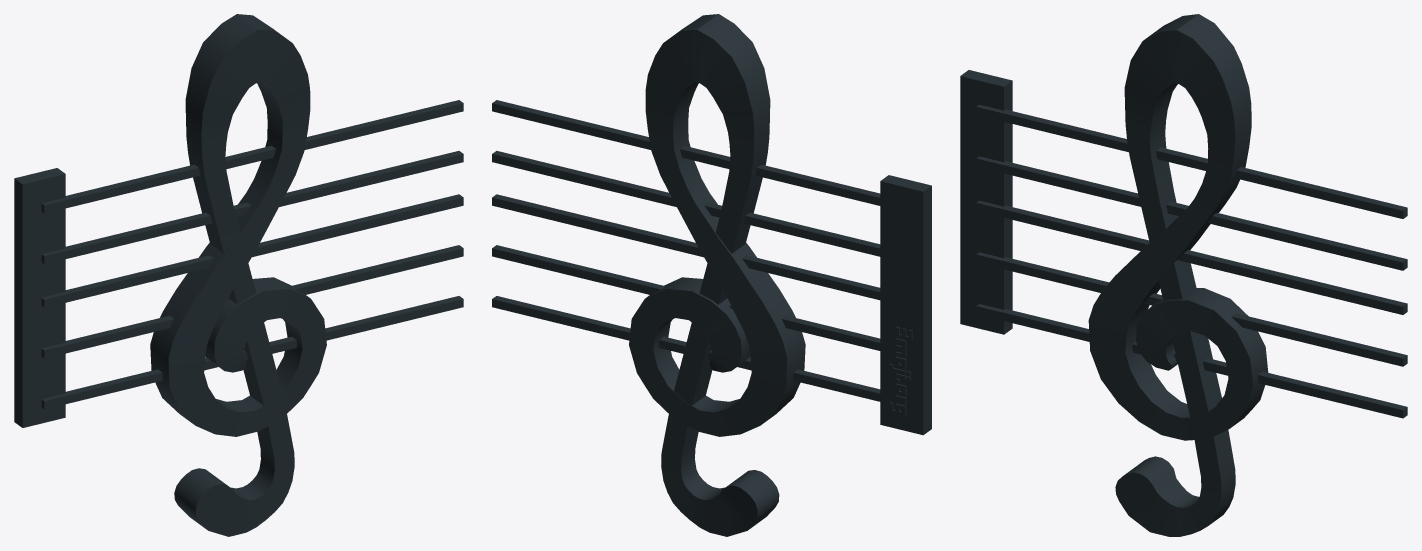
The model's file is musical_score.fbx.
3 views of the same model, side by side, from view 1: azimuth 30°, elevation 25°; view 2: azimuth 150°, elevation 25°; view 3: azimuth 330°, elevation 25° (orthographic).
Parts seen in each view (by area): view 1: Cube.847; view 2: Cube.847; view 3: Cube.847.
Boxes of the visible parts, box(x1,y1,x2,y2) form: Cube.847: box(14, 14, 463, 536); Cube.847: box(492, 14, 931, 536); Cube.847: box(960, 14, 1407, 536).
Bounding box in the file's own units: 206 × 225 × 18.53.
1 material, 1 textured.
